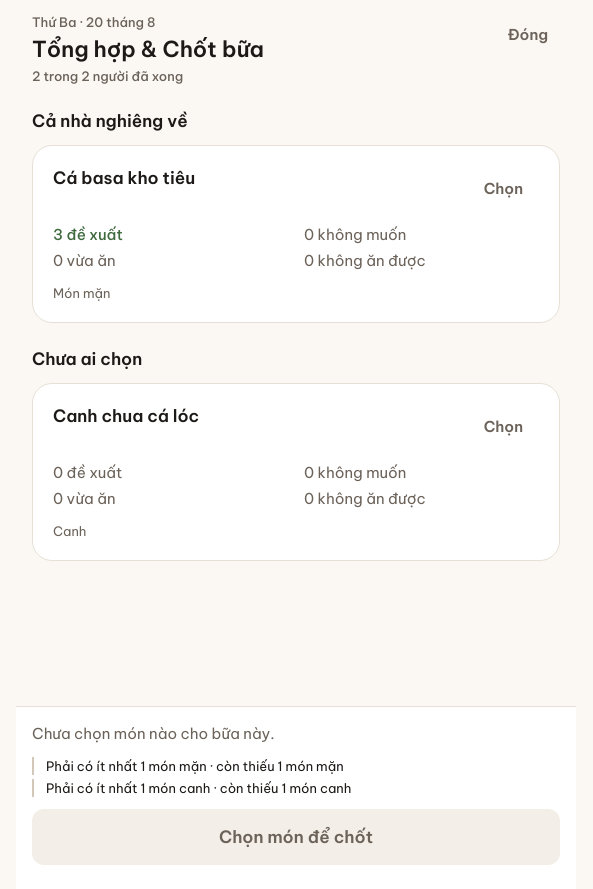
Test case: FinalizeMealScreen (S-10 Màn tổng hợp và chốt bữa — E5-T7 + E5-T8 + E5-T9) › phản hồi tức thì (BR-051): Bấm Chọn → dòng "Còn thiếu" đổi ngay tại client mà KHÔNG gọi action
The image size is (593, 889).
Expected: the list item "Phải có ít nhất 1 món mặn · còn thiếu 1 món mặn" is shown, left=32, top=757, right=560, bottom=775
Expected: the list item "Phải có ít nhất 1 món canh · còn thiếu 1 món canh" is shown, left=32, top=779, right=560, bottom=797
Note: Chọn món mặn
What coordinates should you click on to do the following:
click the button "Chọn" in the row of "Cá basa kho tiêu"
I would click on:
 (503, 189)
Its box is left=468, top=166, right=539, bottom=212.
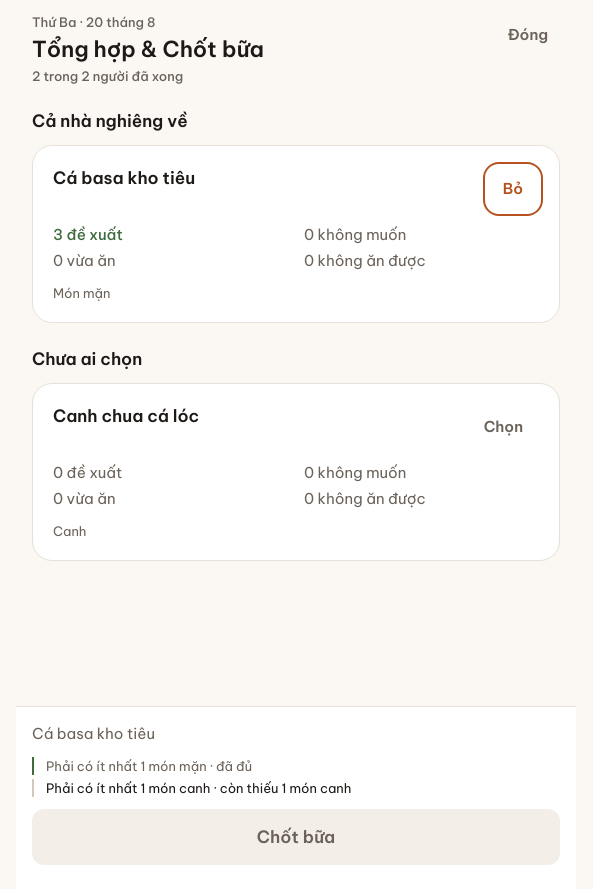
Expected: the list item "Phải có ít nhất 1 món canh · còn thiếu 1 món canh" is shown, left=32, top=779, right=560, bottom=797
Expected: the list item "Phải có ít nhất 1 món mặn · đã đủ" is shown, left=32, top=757, right=560, bottom=775
Note: Chọn tiếp món canh
What coordinates should you click on to do the following:
click the button "Chọn"
I would click on:
 (503, 427)
Its box is left=468, top=404, right=539, bottom=450.
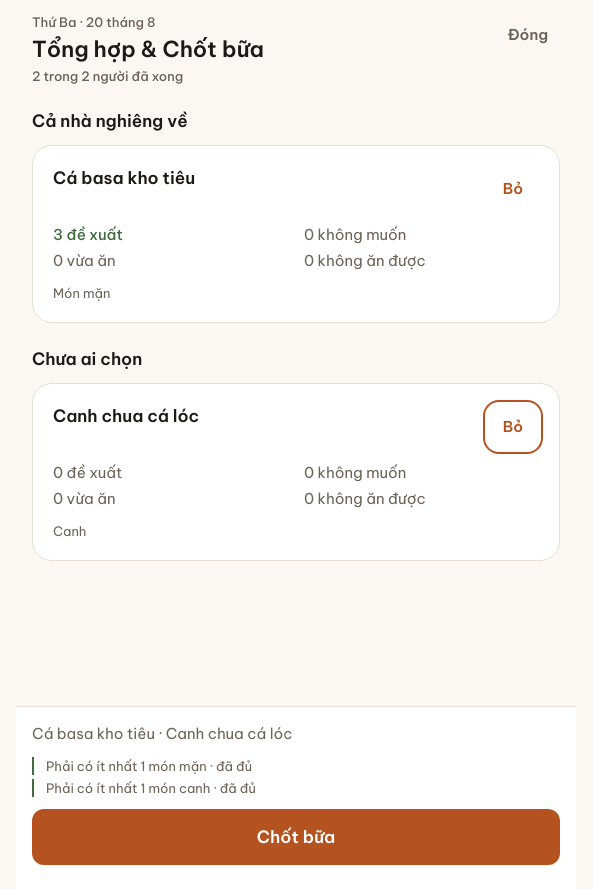
Expected: the list item "Phải có ít nhất 1 món mặn · đã đủ" is shown, left=32, top=757, right=560, bottom=775
Expected: the list item "Phải có ít nhất 1 món canh · đã đủ" is shown, left=32, top=779, right=560, bottom=797
Expected: the list item "còn thiếu" is gone
